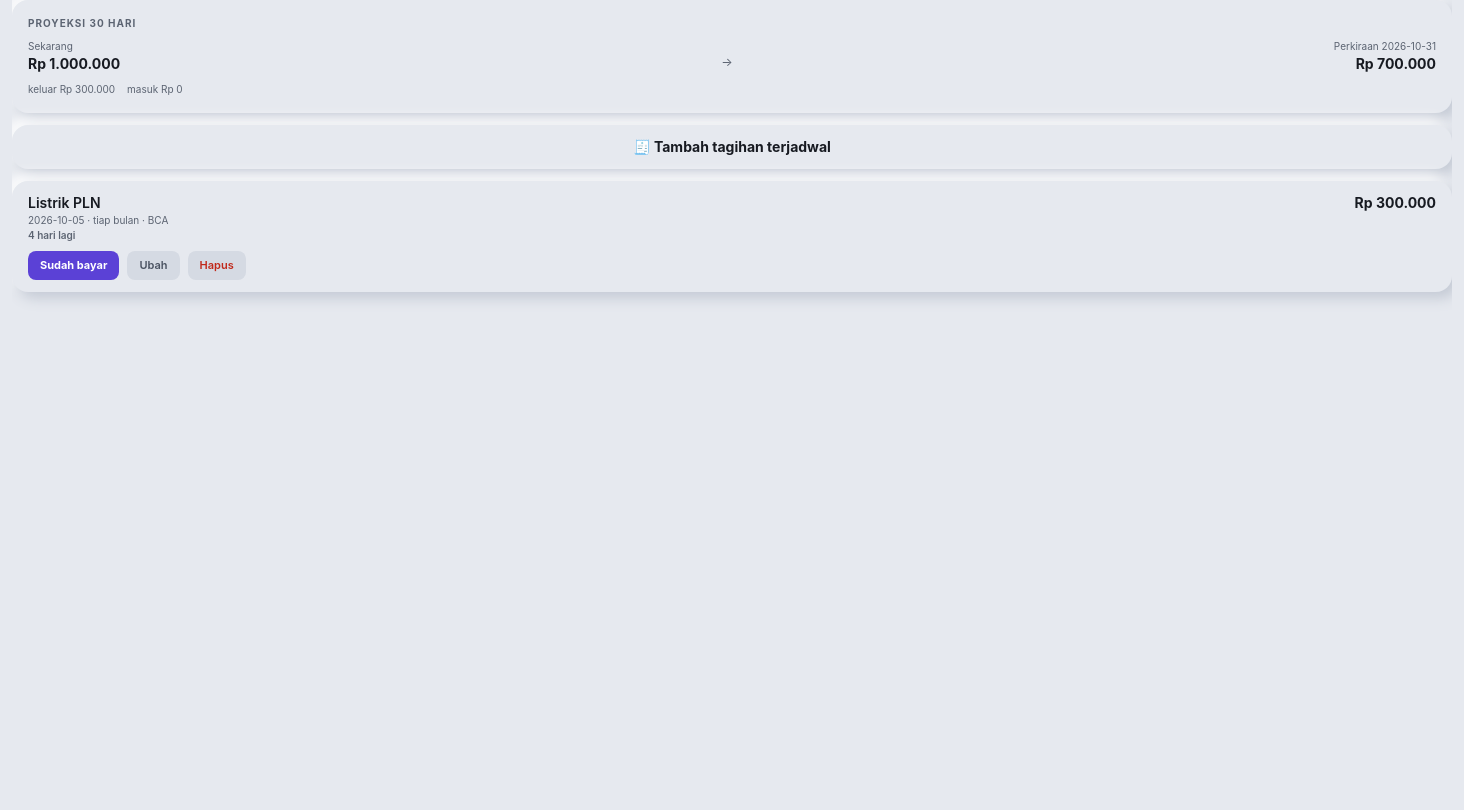
Test case: BudgetTagihan › mengisi formulir dengan nilai tagihan yang sedang diubah
This screenshot has width=1464, height=810.
Click the button "Ubah". click: (154, 265)
box: left=128, top=251, right=180, bottom=280
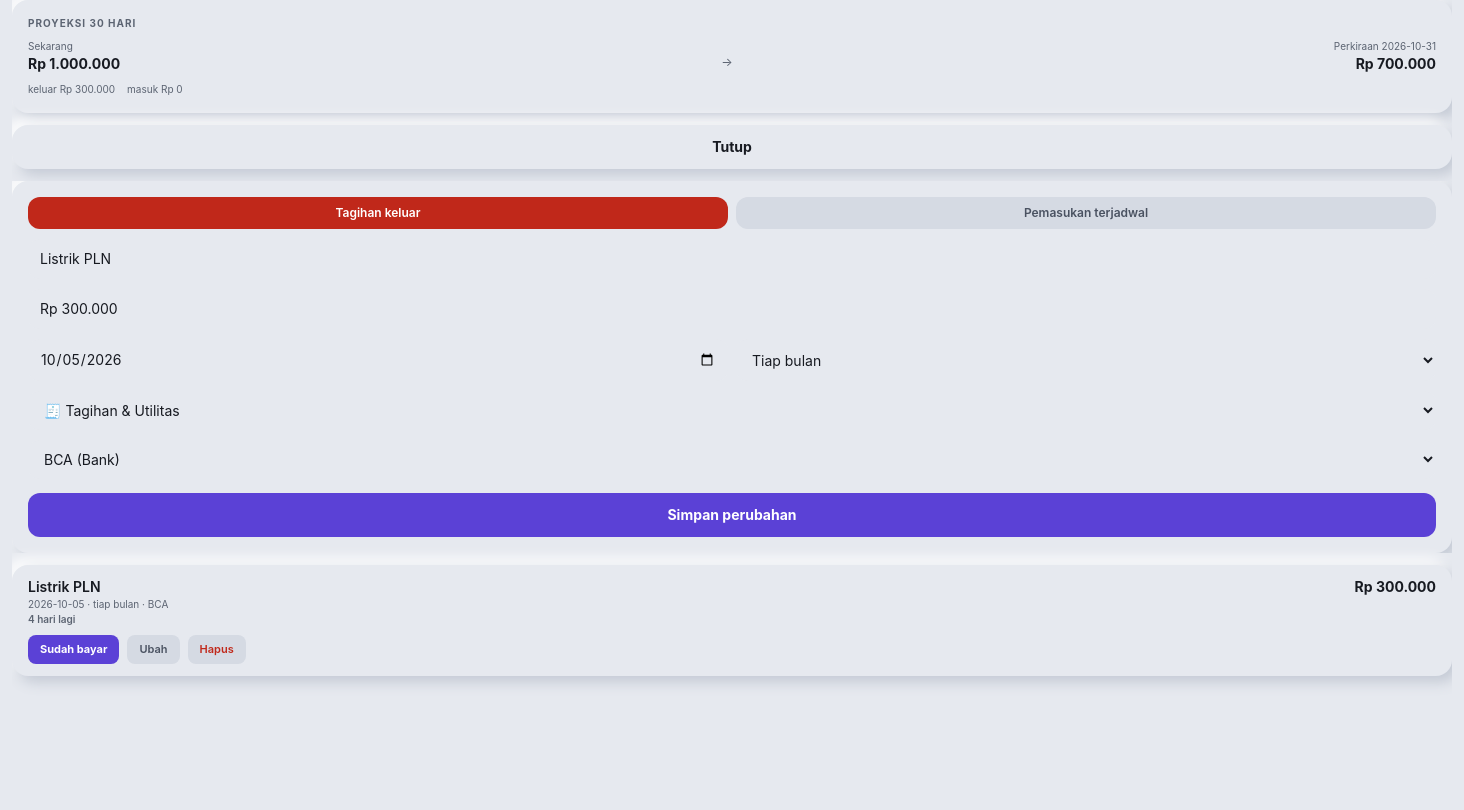
Check: the 1st field with placeholder "Nama (misal Listrik PLN)" holds "Listrik PLN", box left=28, top=239, right=1436, bottom=279
Check: the button "Simpan perubahan" is shown, box left=28, top=493, right=1436, bottom=537
